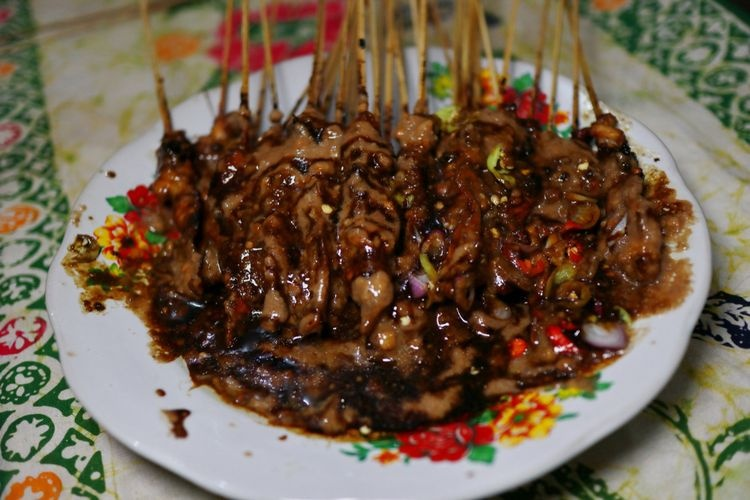sate_madura: (93, 5, 687, 402)
